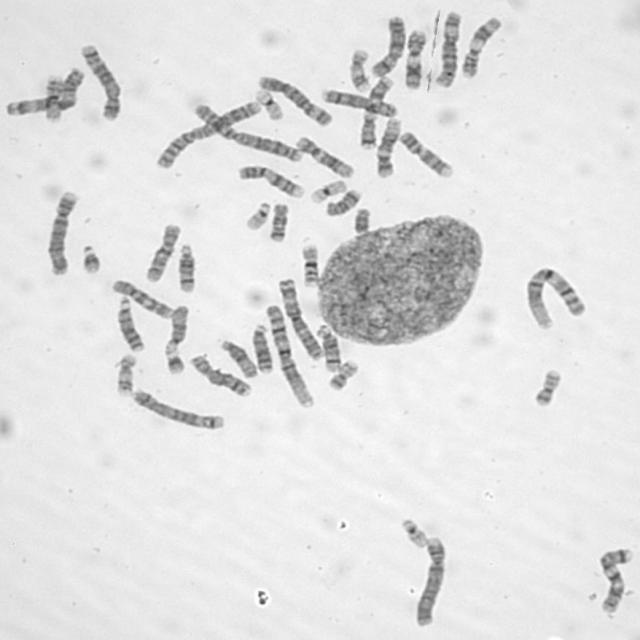A1: (262, 302, 317, 411), (520, 263, 588, 331)
A2: (152, 98, 263, 171), (190, 99, 306, 164)
A3: (275, 274, 324, 361), (5, 66, 86, 118)
B4: (411, 534, 448, 628), (42, 188, 80, 277)
B5: (129, 386, 226, 432), (78, 40, 124, 121)
C10: (107, 276, 175, 321), (141, 220, 183, 285)
C11: (458, 14, 504, 80), (401, 27, 429, 90)
C12: (293, 133, 356, 180), (372, 115, 402, 179)
C6: (255, 72, 335, 128), (431, 9, 463, 90)
C7: (356, 73, 396, 151), (594, 545, 634, 615)
C8: (187, 351, 254, 399), (318, 86, 398, 118)
C9: (396, 128, 455, 179), (236, 162, 306, 200)
D13: (113, 294, 146, 353), (248, 320, 274, 374)
D14: (314, 322, 344, 374), (174, 240, 198, 295)
D15: (217, 336, 260, 379), (162, 302, 191, 355)
E16: (298, 240, 321, 288), (44, 73, 64, 122)
E17: (346, 46, 373, 94), (113, 350, 138, 397)
E18: (322, 185, 363, 218), (267, 200, 291, 243)
F19: (251, 86, 286, 122), (307, 177, 349, 204)
F20: (530, 364, 563, 408), (324, 357, 360, 392)
G21: (78, 239, 103, 276), (161, 346, 187, 376)
G22: (396, 515, 431, 550), (241, 199, 273, 232)
X: (367, 12, 408, 78)
Y: (350, 204, 373, 236)
